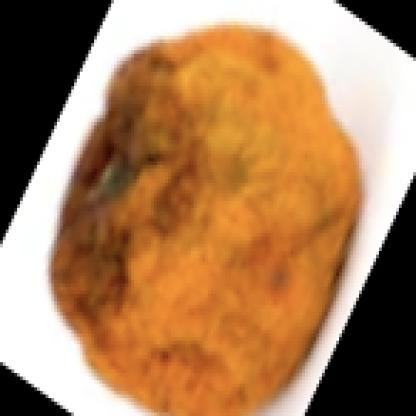rotten: (52, 22, 362, 416)
